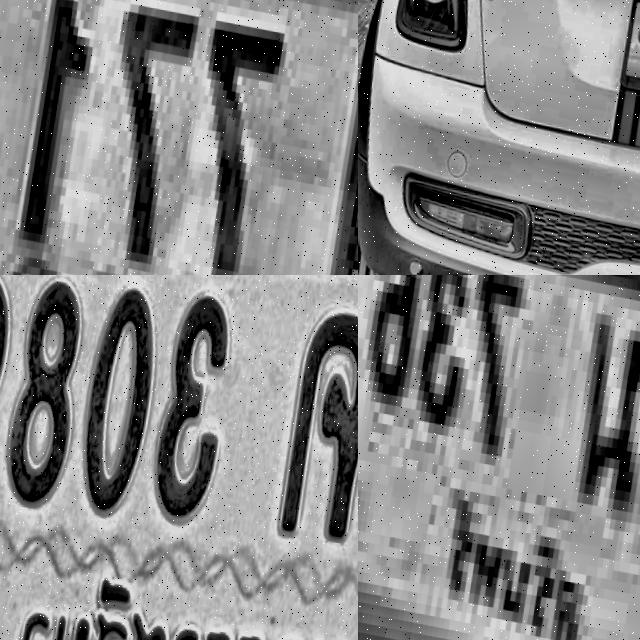license-plate: (0, 275, 358, 640), (358, 275, 640, 640), (0, 0, 358, 275)
